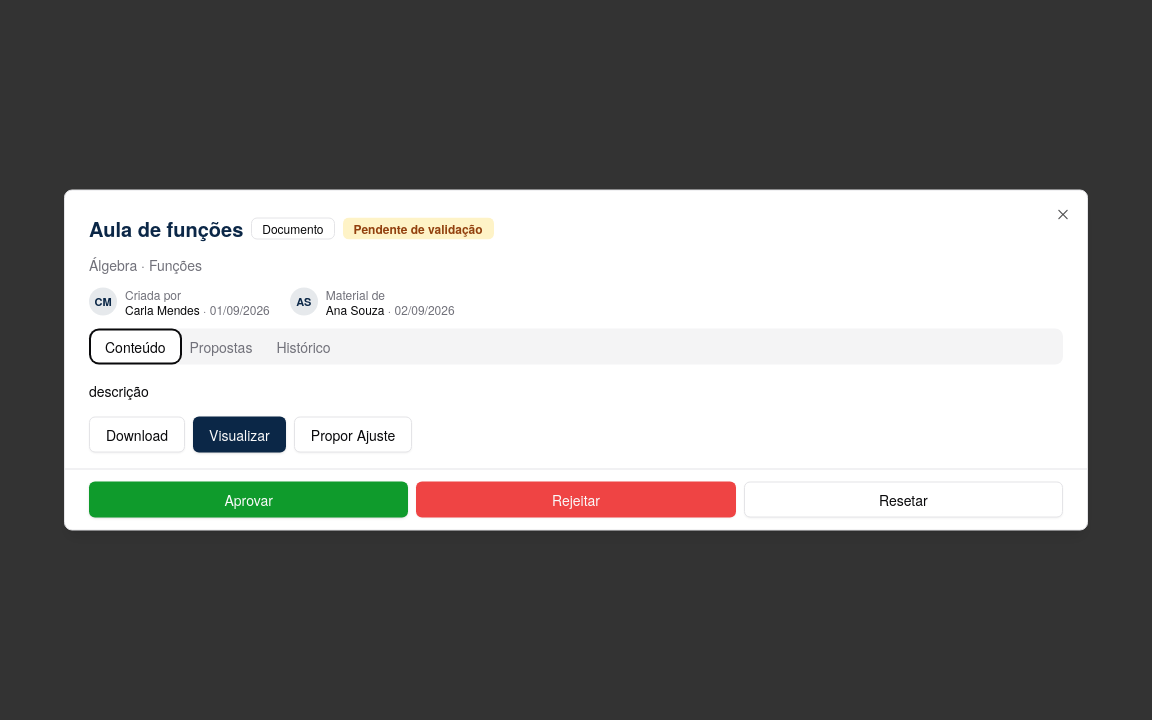
DemandaModal — rejeição com motivo (048/07) › o texto não promete que a demanda volta para quem enviou
The image size is (1152, 720).
Click the button "Rejeitar" at (576, 500), box [416,482,736,518]
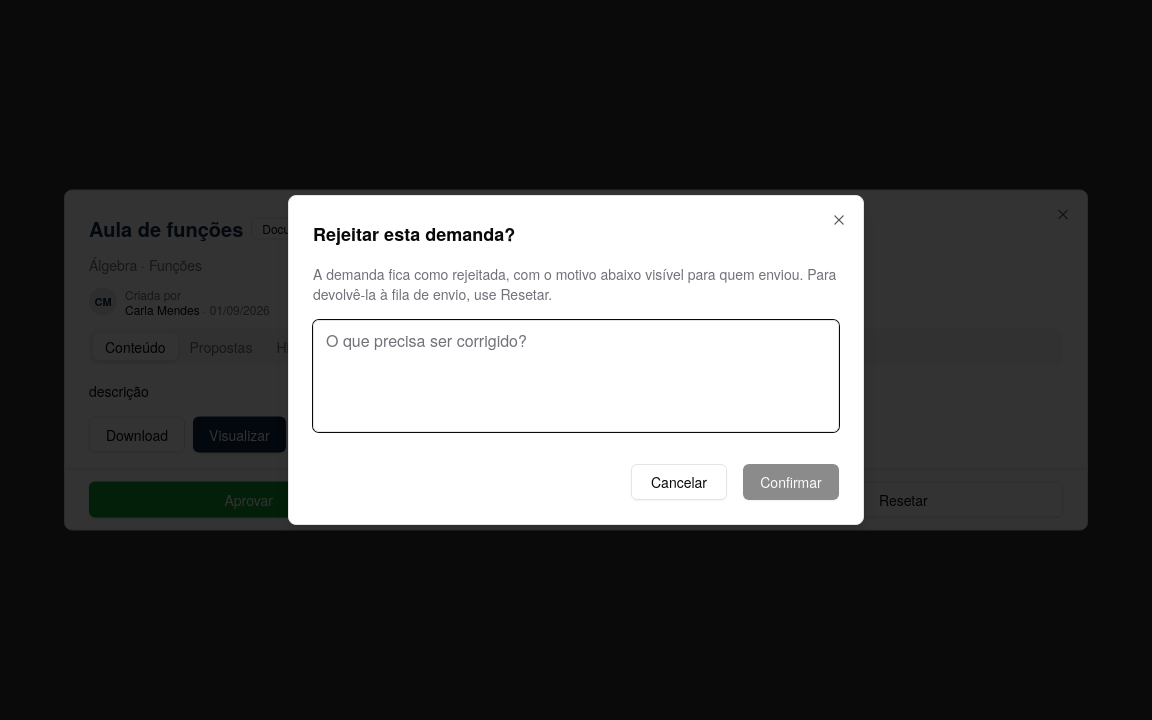
Expected: the text "fica como rejeitada" is shown, [313,264,836,304]
